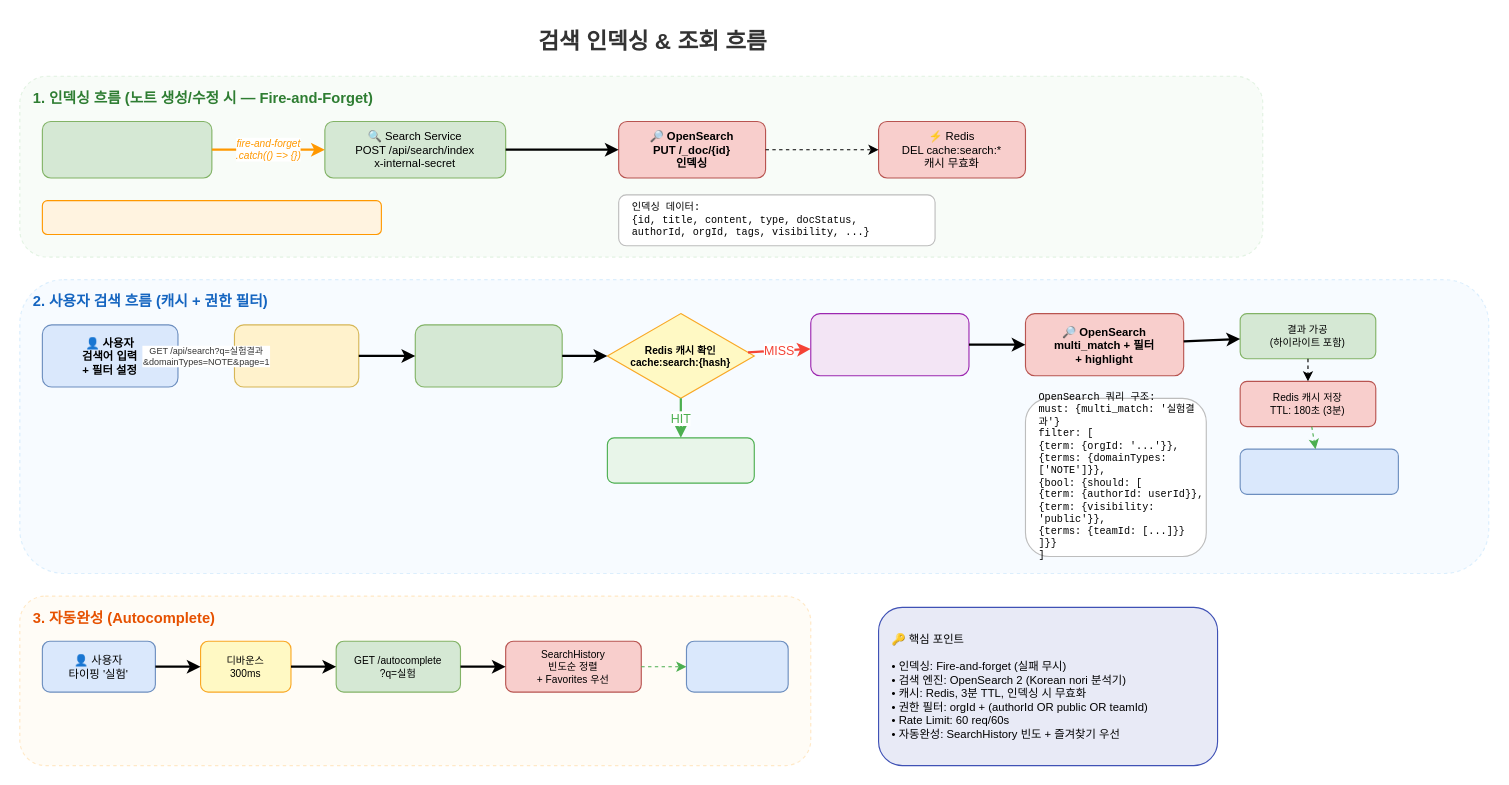
Some shapes in this 1509 by 785 pixel diagram are drawn without their labels. Here are the shapes that lost their labels. From the top down, the centre of each, then its label:
At [126,149]: "📝 ELN Service 노트 생성/수정 완료".
At [211,216]: "⚠️ 인덱싱 실패해도 노트 저장은 성공 (eventual consistency)".
At [296,355]: "🔀 Gateway Rate Limit: 60 req/60s".
At [488,355]: "🔍 Search Service requireAuth".
At [889,344]: "권한 필터 빌드 orgId + (authorId OR public OR teamId)".
At [680,460]: "✅ 캐시 히트 즉시 응답".
At [1318,471]: "📊 검색 결과 {results, total, page}".
At [736,666]: "📋 자동완성 드롭다운".
